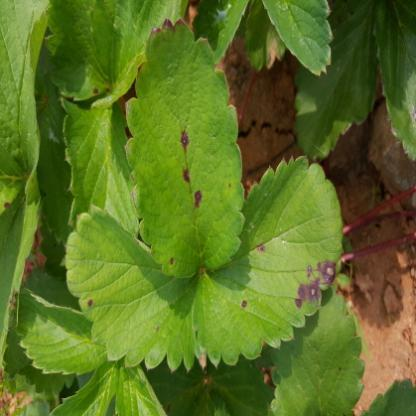Strawberry_Leaf_Spot: (192, 154, 346, 374), (124, 17, 247, 279), (64, 203, 196, 372), (44, 0, 190, 110)
